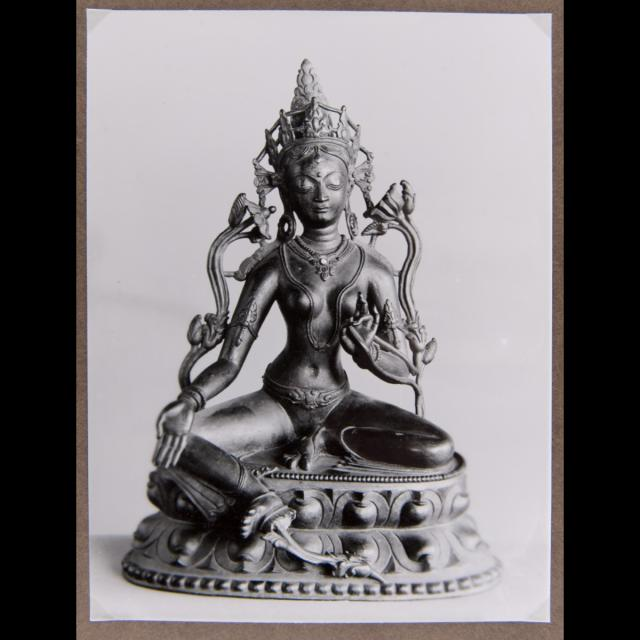buddha-sitting: (158, 51, 476, 583)
